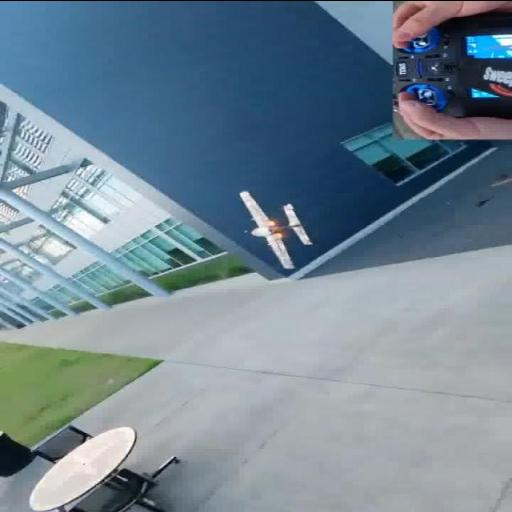uav: (229, 186, 323, 270)
